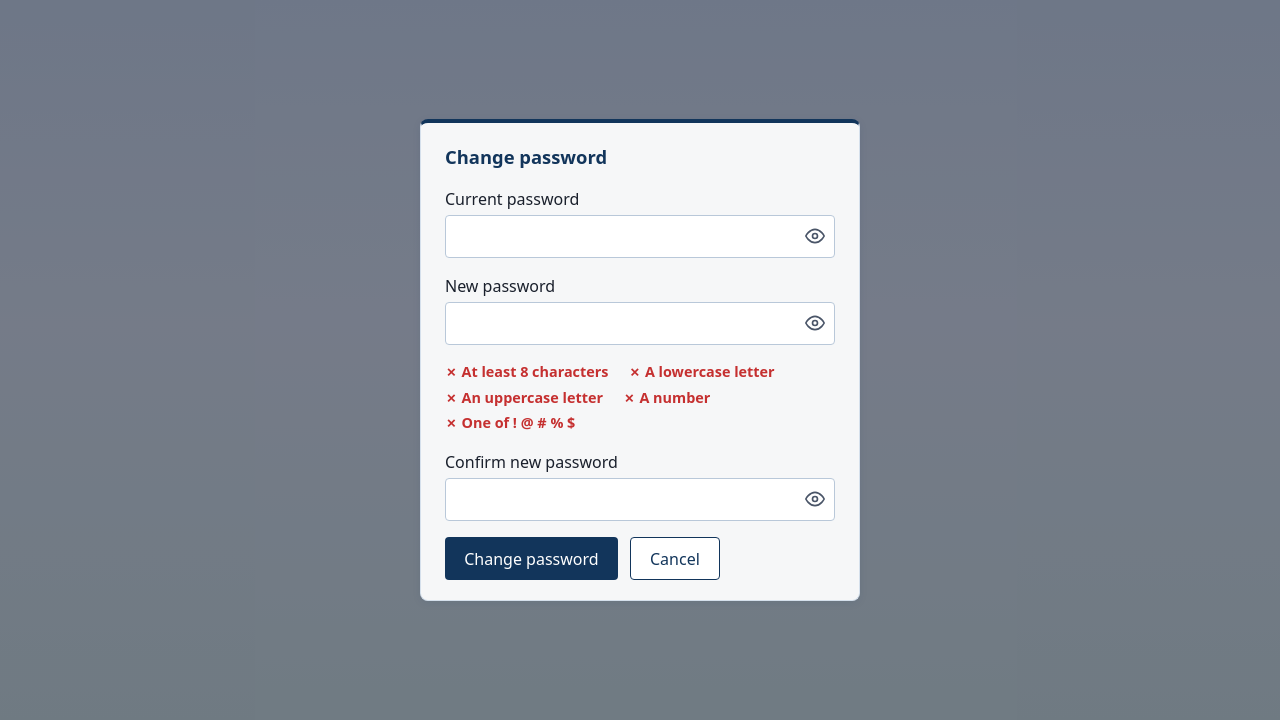
Test case: submitting › rejects a confirmation that does not match
Type "Securepass123!" into the password field labelled "Current password". click: coordinates (640, 236)
box: 445,214 -> 835,258
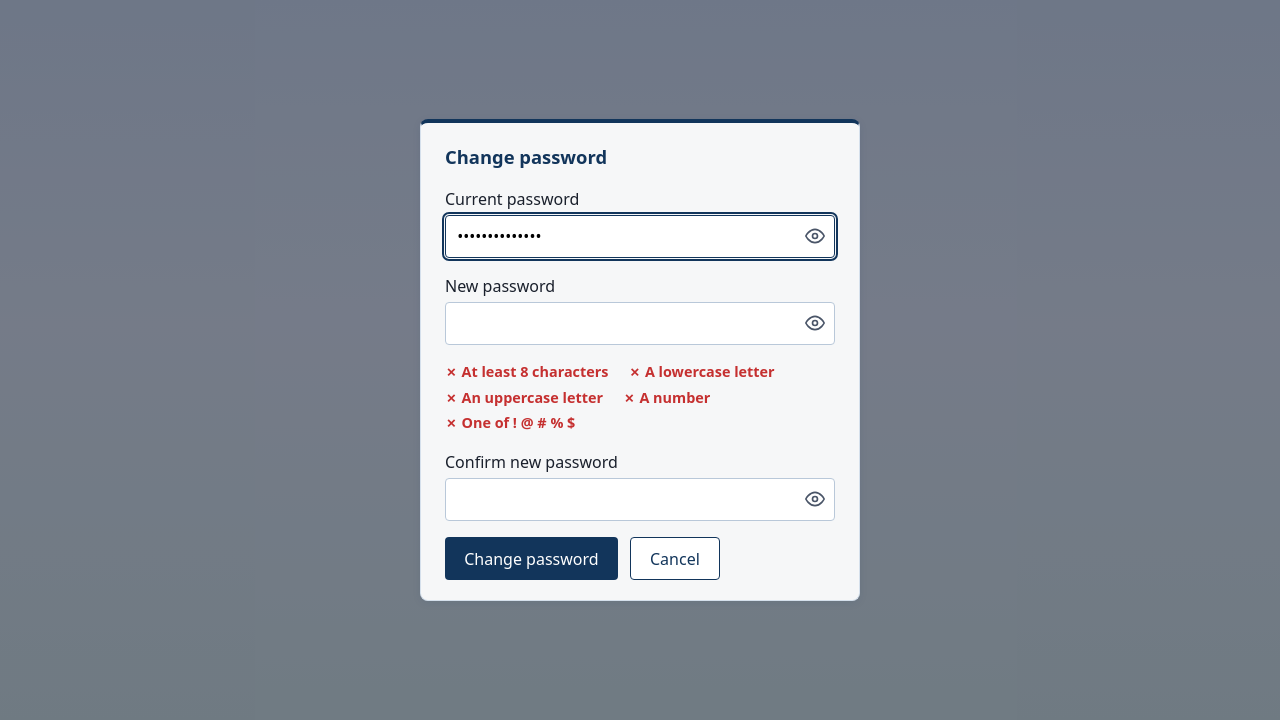
Type "Brandnew456#" into the password field labelled "New password". click: coordinates (640, 323)
box: 445,302 -> 835,345
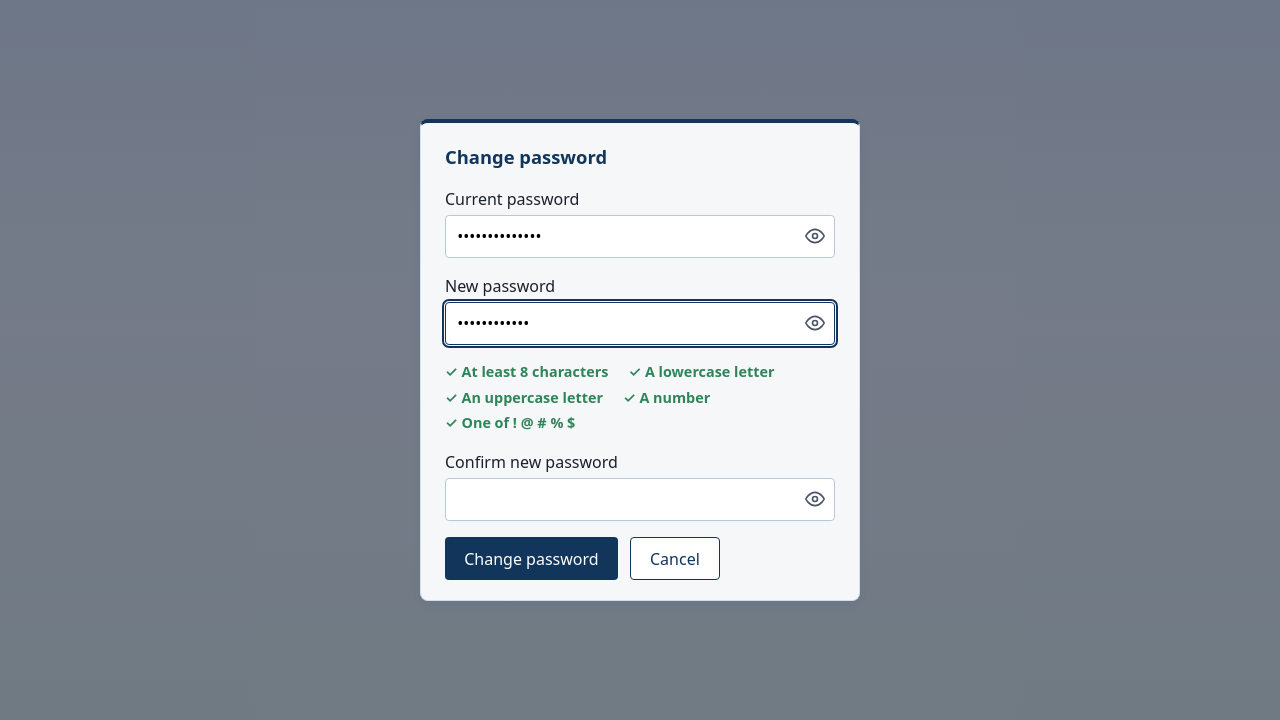
Type "Brandnew456!" into the password field labelled "Confirm new password". click: coordinates (640, 499)
box: 445,478 -> 835,521
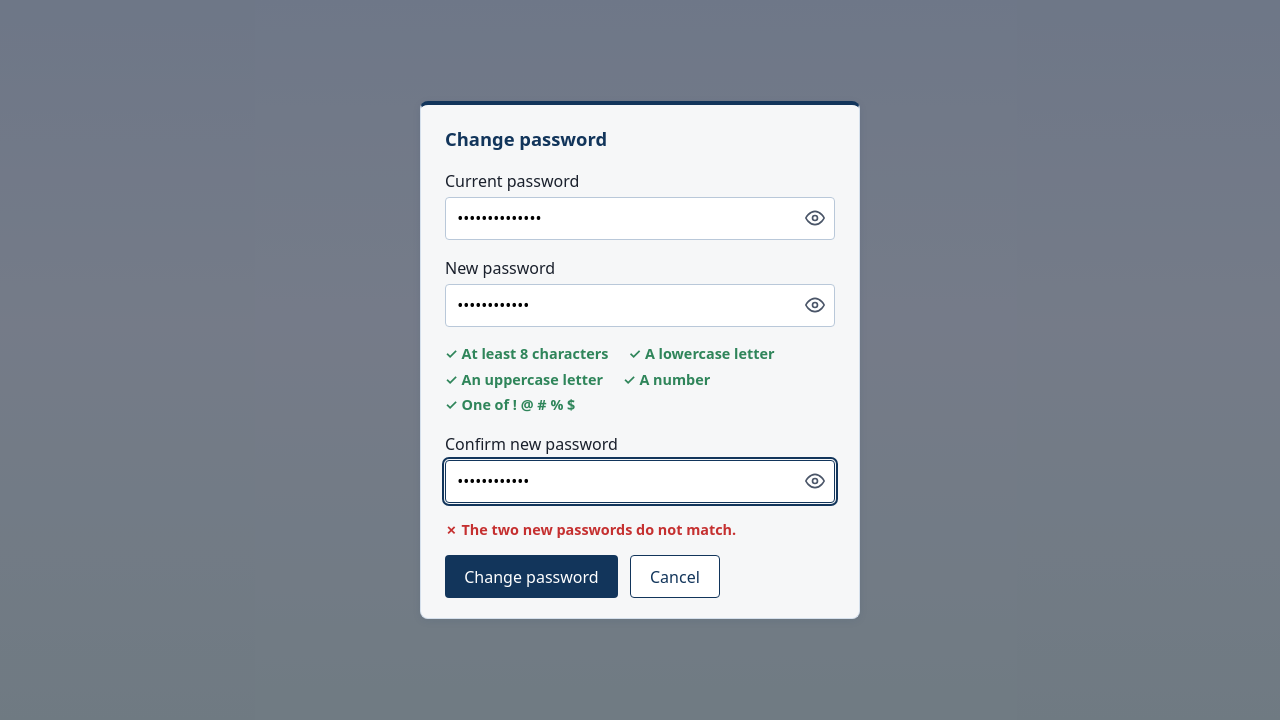
Click the button "Change password". click: coordinates (531, 576)
box: 445,555 -> 618,598
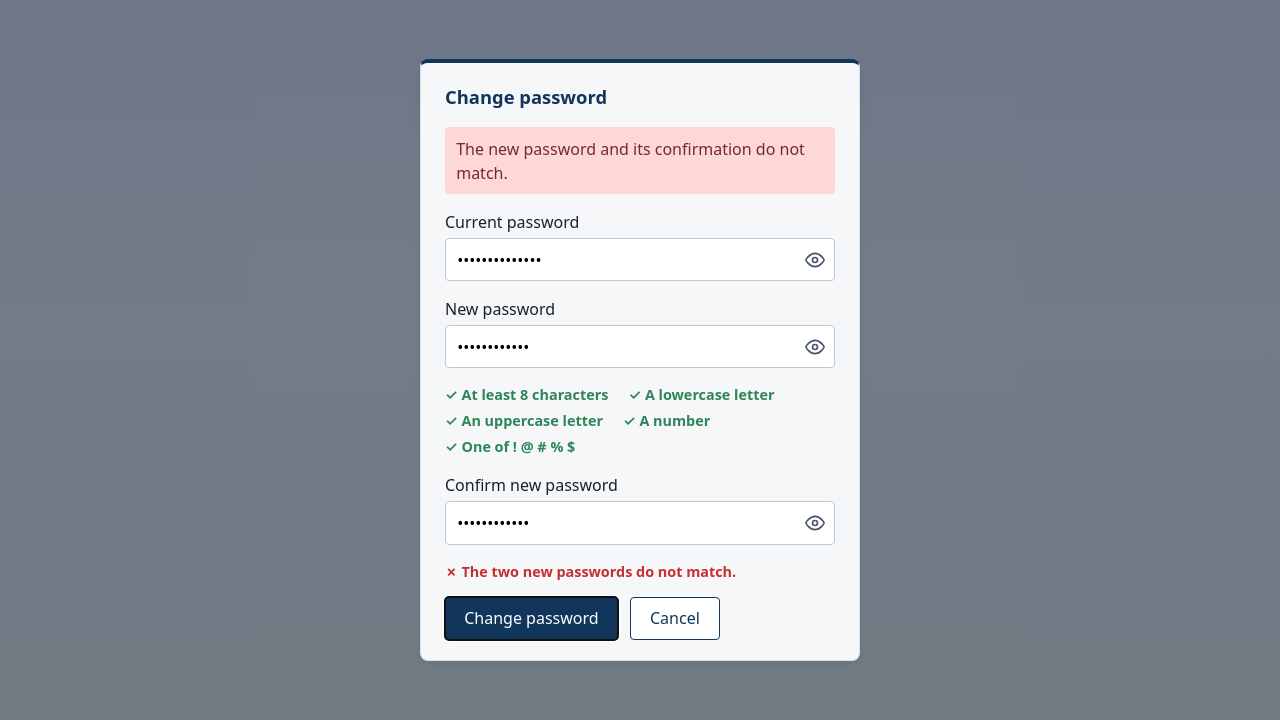
Result: the message reads "The new password and its confirmation do not match." at 456,138 -> 805,184
